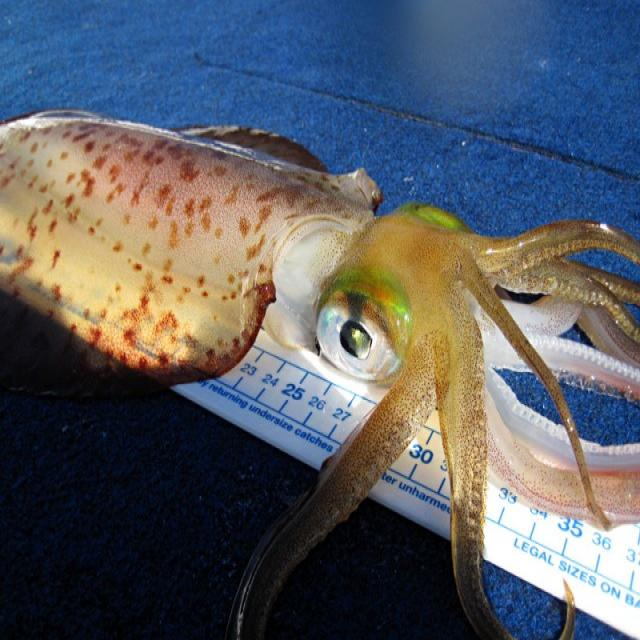SQUID: (0, 12, 640, 633)
